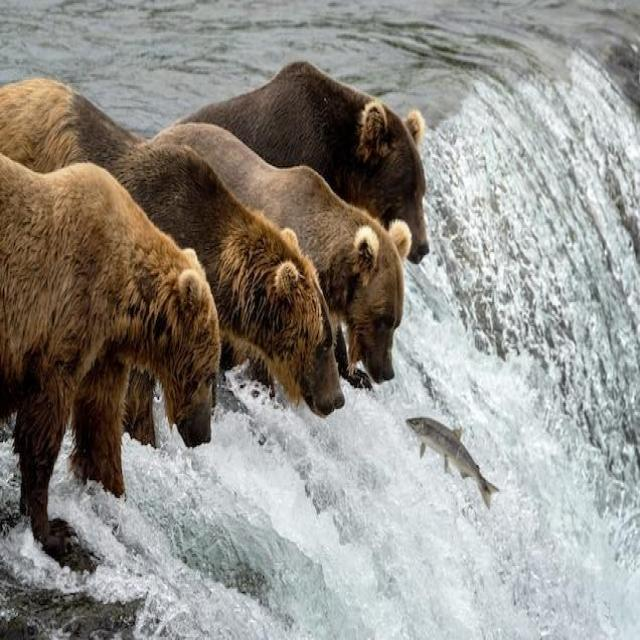Bear: (3, 78, 344, 418), (0, 152, 221, 569), (149, 124, 413, 391), (178, 62, 431, 264), (179, 62, 430, 264)
